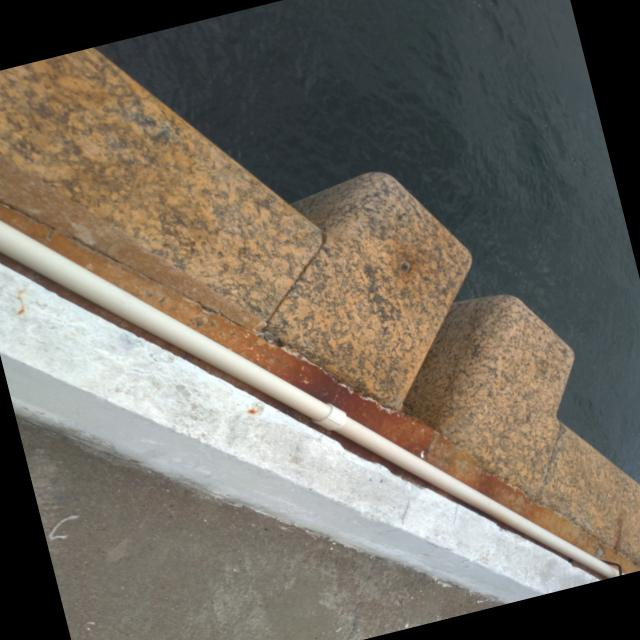gas: (0, 223, 626, 577)
